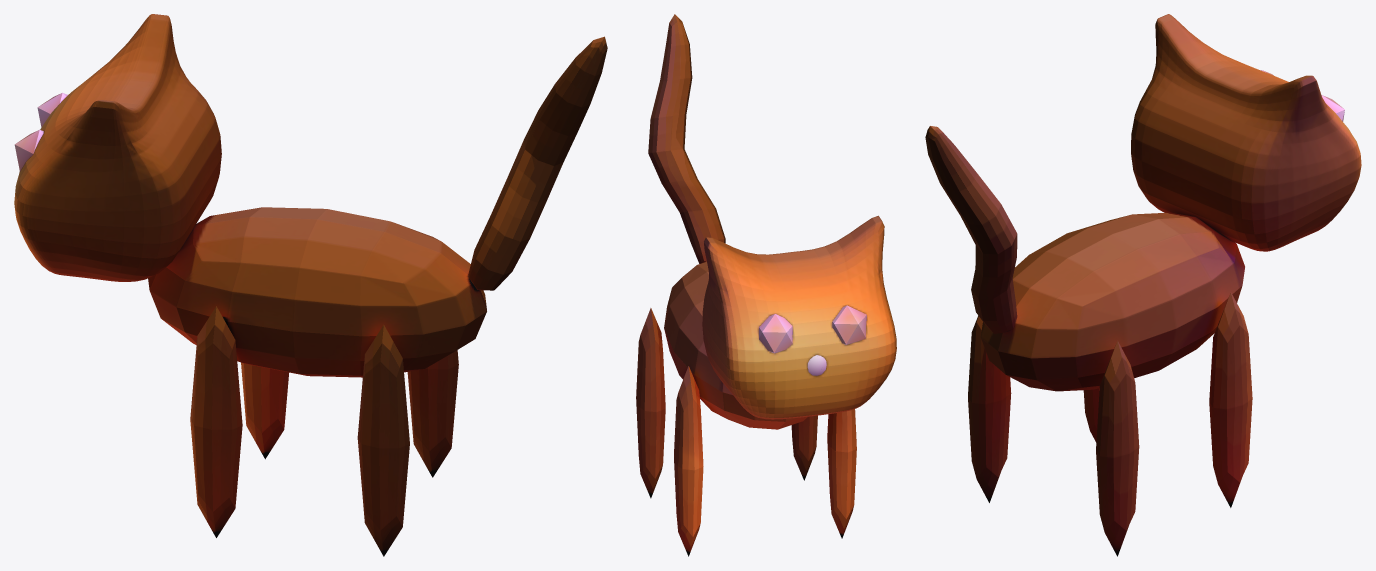
The model's file is cat.glb.
3 views of the same model, side by side, from view 1: azimuth 30°, elevation 25°; view 2: azimuth 150°, elevation 25°; view 3: azimuth 270°, elevation 25° (orthographic). The views are drawn at different scales.
Visible parts, largest first — view 1: cat_body, cat_head, cat_tail, cat_leg_4, cat_leg_3, cat_leg_2, cat_leg_1; view 2: cat_head, cat_tail, cat_body, cat_leg_2, cat_leg_1, cat_leg_3, cat_leg_4, cat_eye_1, cat_eye_2; view 3: cat_head, cat_body, cat_tail, cat_leg_2, cat_leg_1, cat_leg_4, cat_leg_3.
Part boxes in pixels (<box>): cat_body: <box>148,207,486,377</box>; cat_head: <box>14,14,221,281</box>; cat_tail: <box>468,36,607,290</box>; cat_leg_4: <box>357,325,409,556</box>; cat_leg_3: <box>190,306,242,537</box>; cat_leg_2: <box>407,350,458,477</box>; cat_leg_1: <box>241,362,289,459</box>; cat_head: <box>702,215,896,419</box>; cat_tail: <box>648,14,725,263</box>; cat_body: <box>664,261,807,429</box>; cat_leg_2: <box>636,308,665,498</box>; cat_leg_1: <box>674,366,703,556</box>; cat_leg_3: <box>827,409,856,538</box>; cat_leg_4: <box>791,415,817,480</box>; cat_eye_1: <box>759,314,792,353</box>; cat_eye_2: <box>832,305,866,344</box>; cat_head: <box>1131,14,1361,251</box>; cat_body: <box>980,212,1244,391</box>; cat_tail: <box>925,126,1017,333</box>; cat_leg_2: <box>1096,340,1139,556</box>; cat_leg_1: <box>1209,292,1252,507</box>; cat_leg_4: <box>968,315,1011,502</box>; cat_leg_3: <box>1083,388,1099,442</box>.
Bounding box in the file's own units: 1.19 × 1.31 × 1.12.
3 materials, 3 textured.
